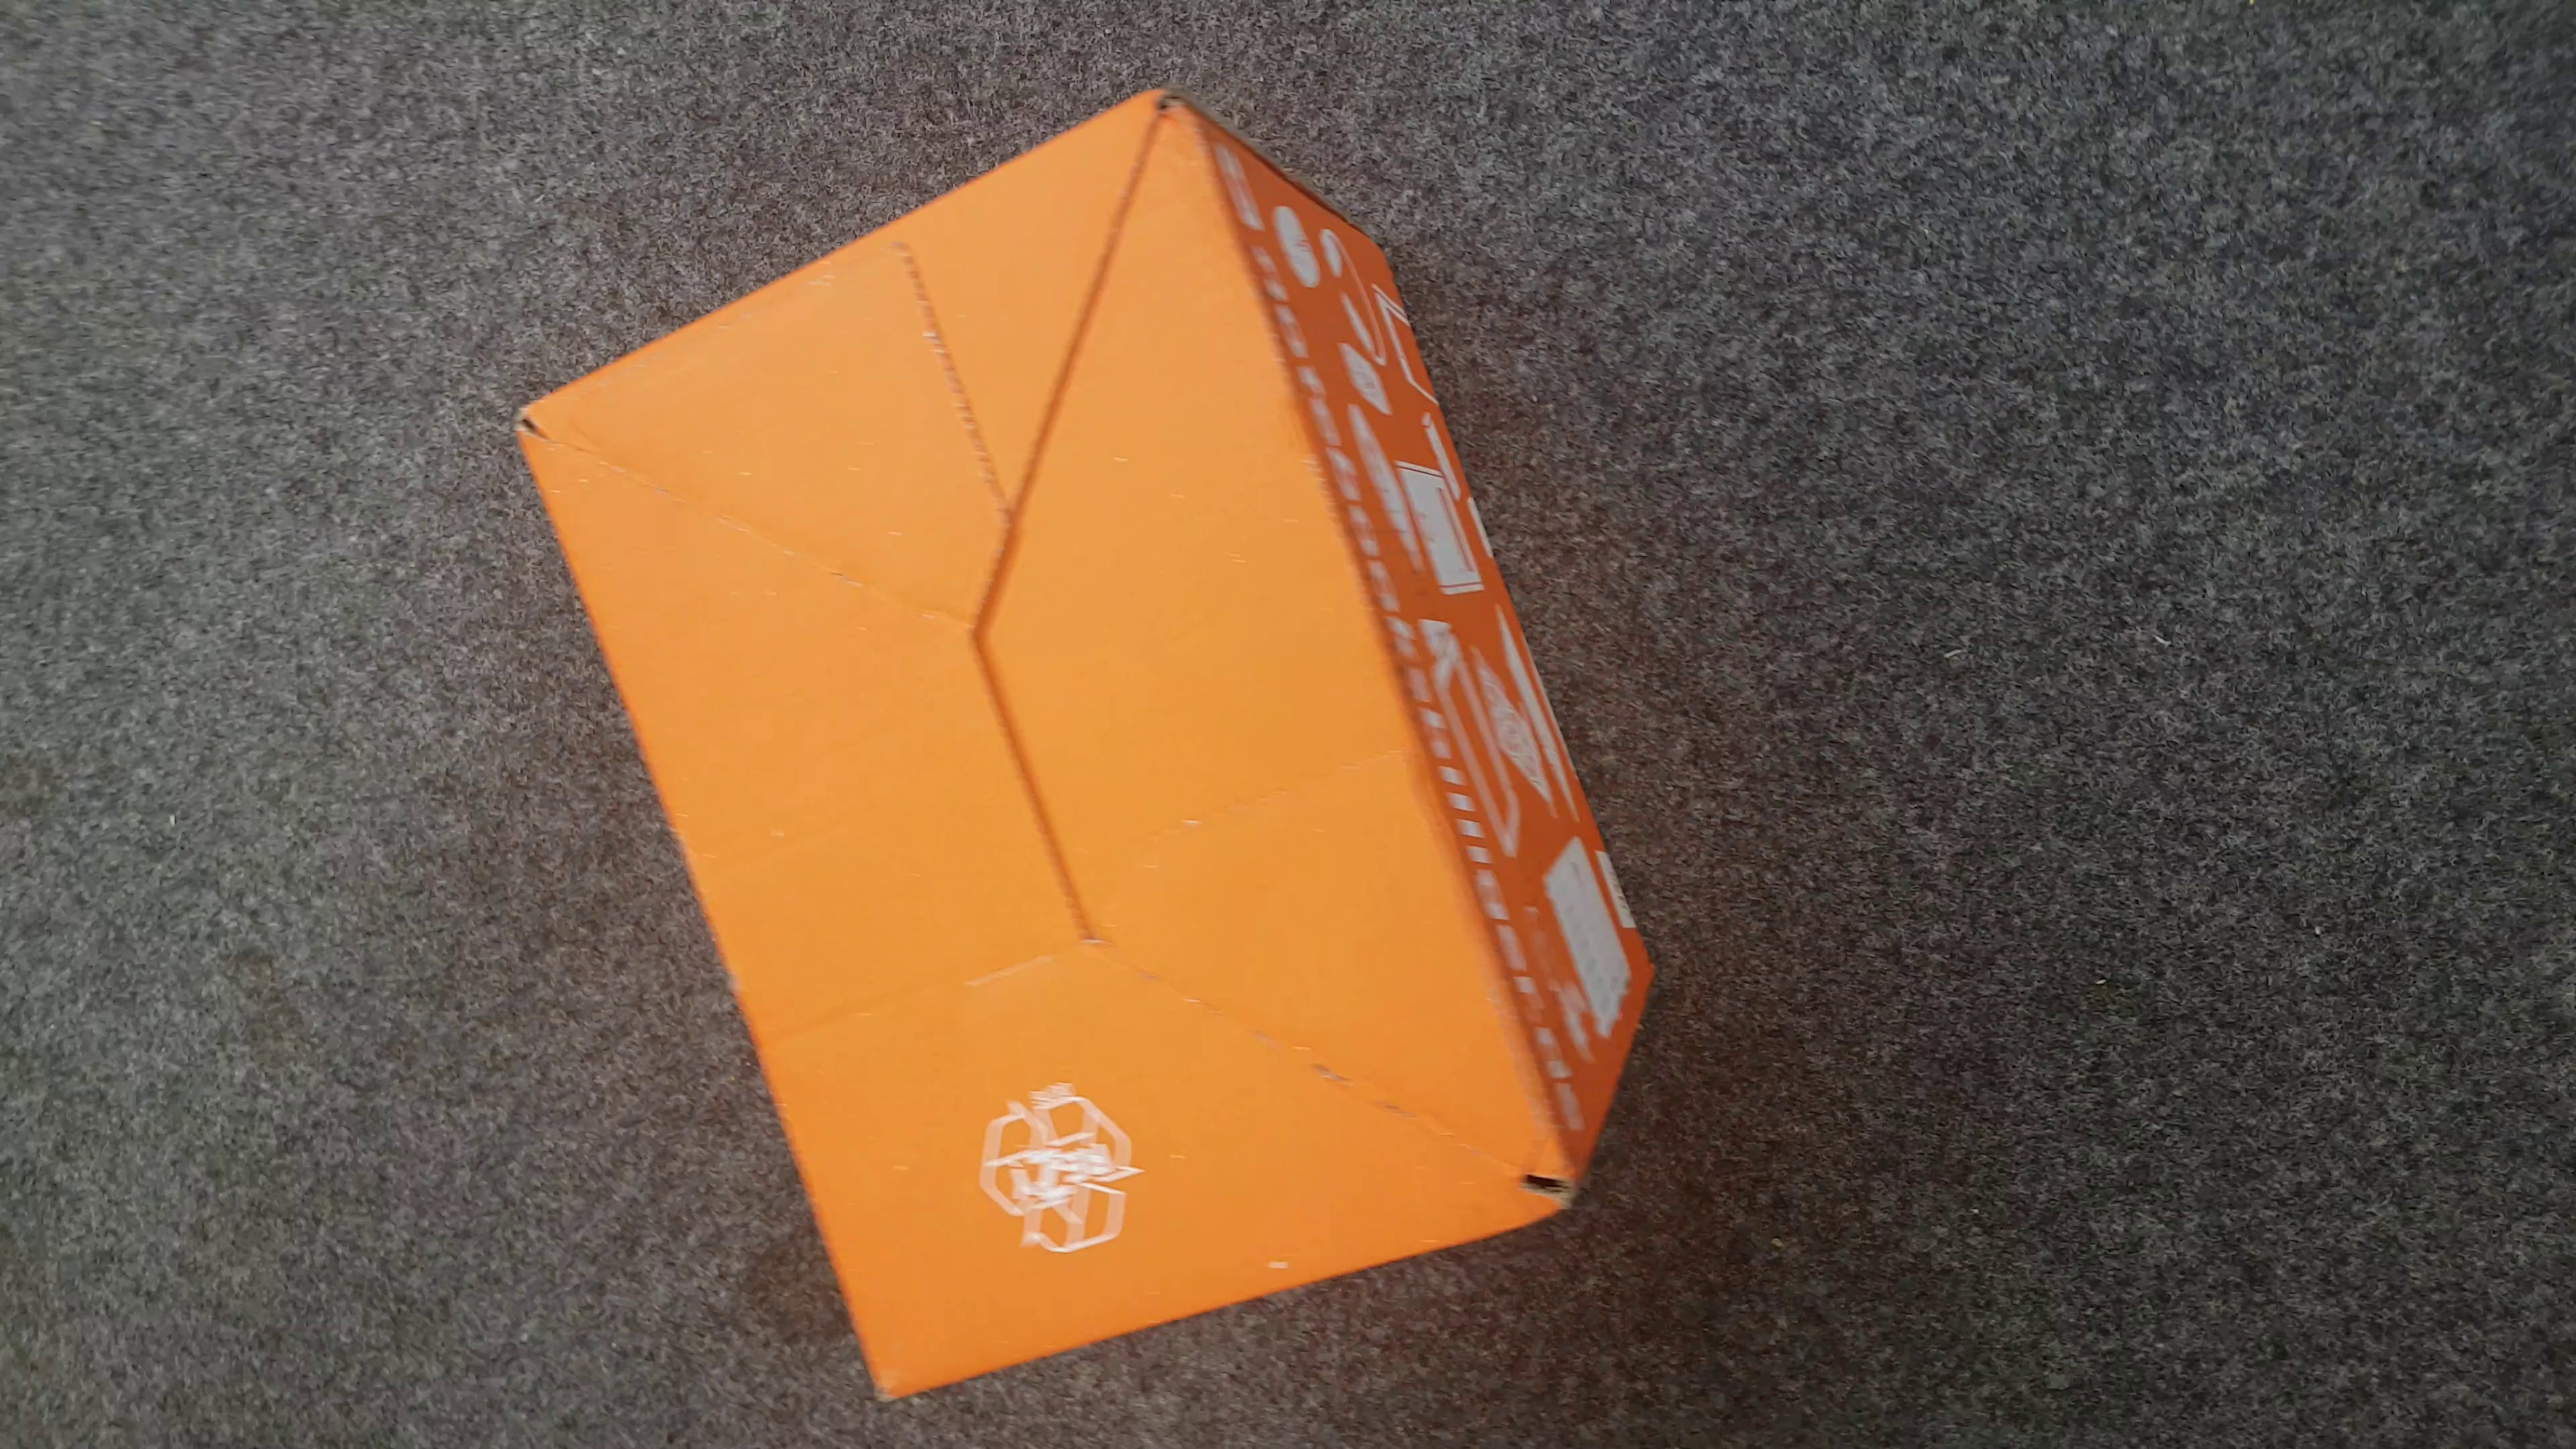push: (506, 94, 1658, 1408)
